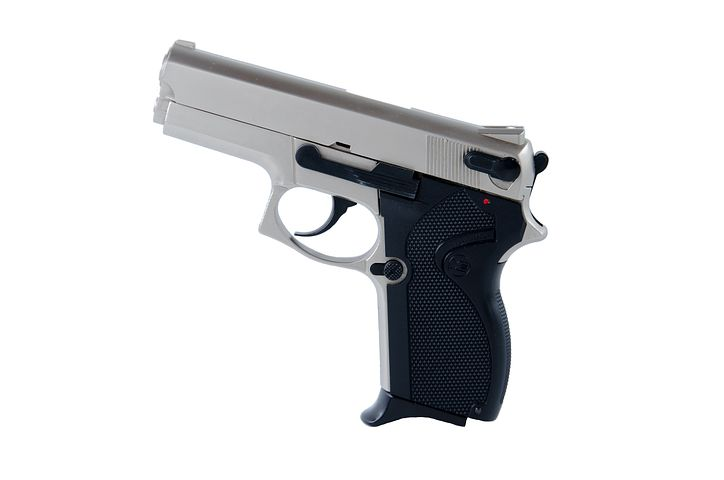gun: (150, 25, 560, 438)
